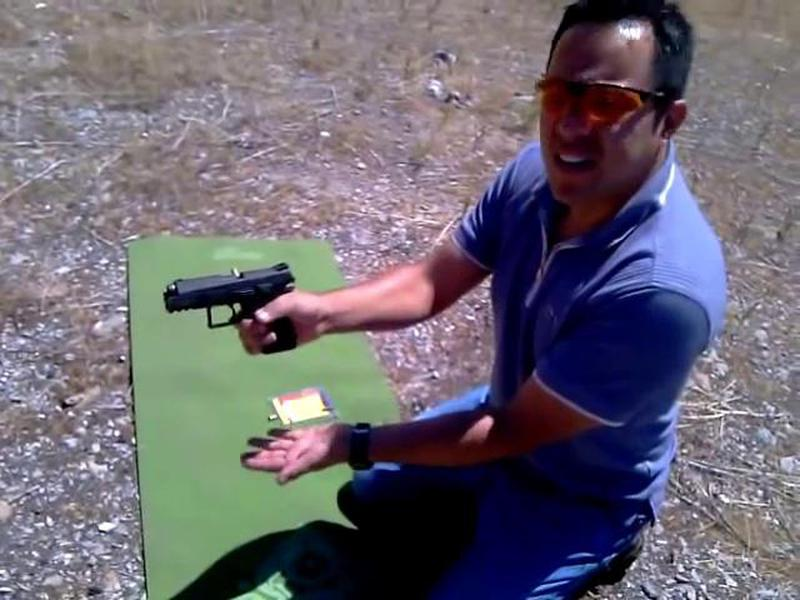Pistola: (147, 254, 297, 358)
